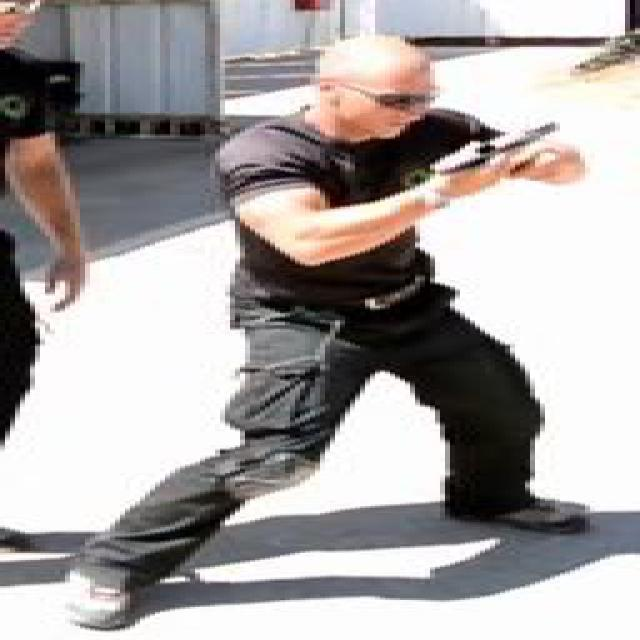Gun: (420, 116, 560, 184)
